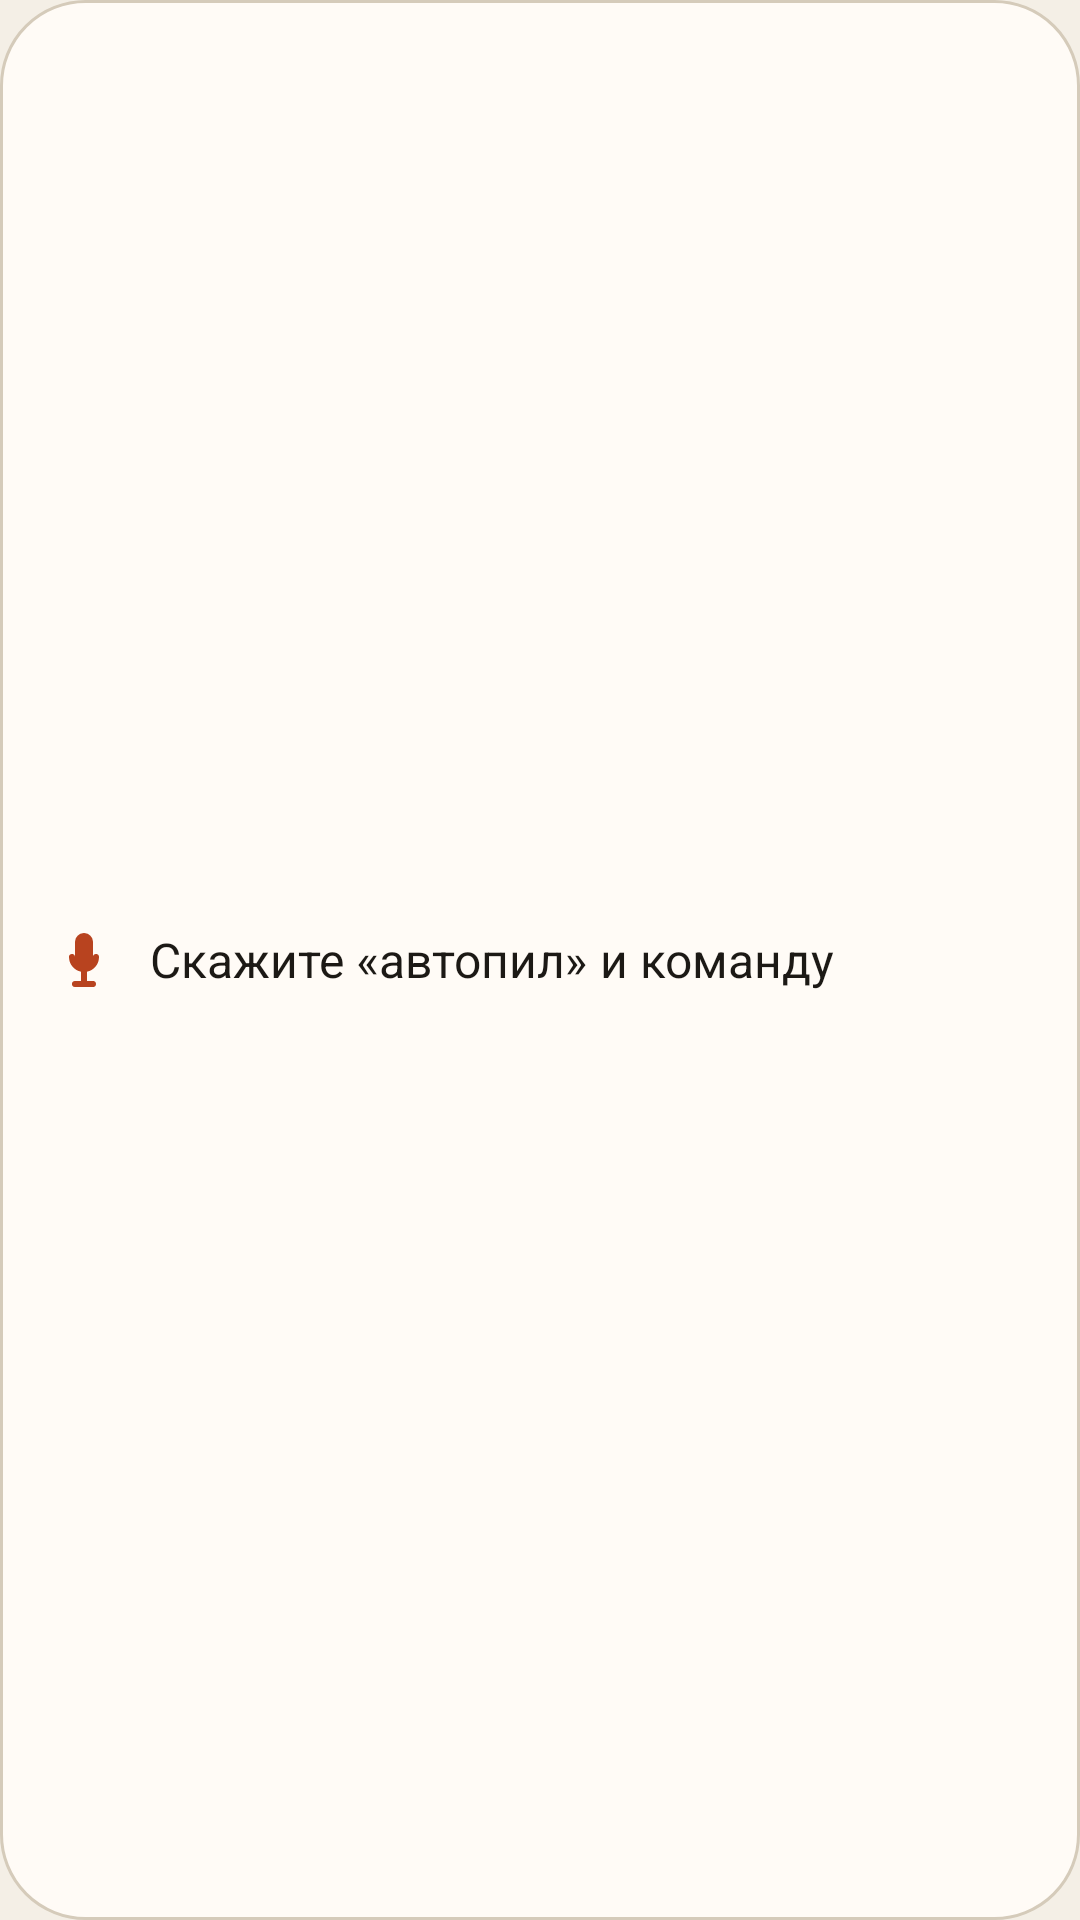

Where to tap for icons on this 1080*1920 app screen, as (x=x, y=y):
mic: (x=84, y=960)
